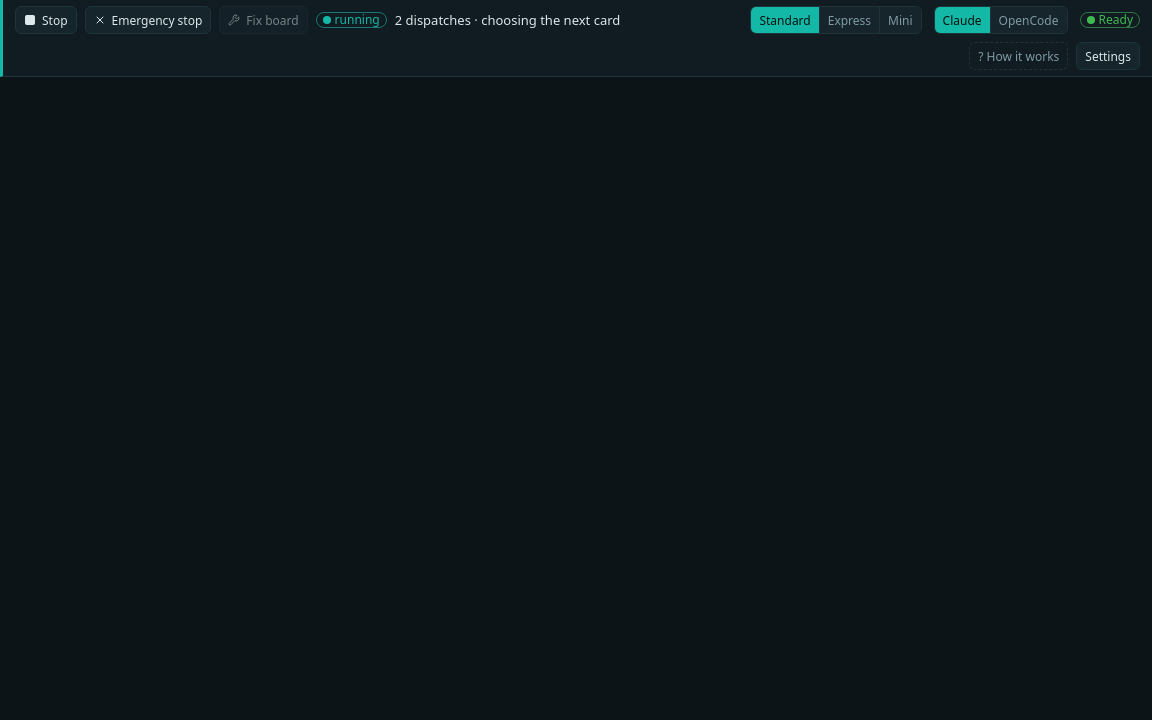
Test: the stops are on the bar, not behind Settings › asks before killing, and does nothing if you decline
What coordinates should you click on to do the following:
click the button with test id "ap-kill"
I would click on:
 (148, 20)
Its box is left=85, top=6, right=211, bottom=34.
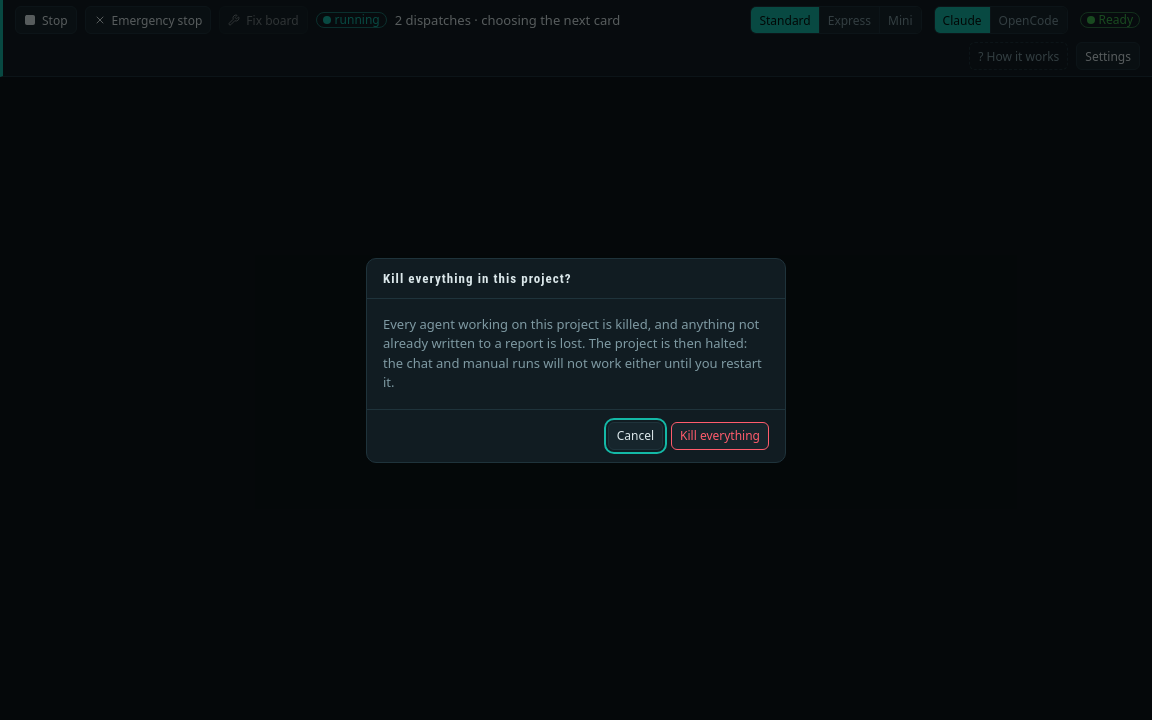
Expected: the text "Kill everything in this project?" is shown, left=383, top=270, right=572, bottom=286
What coordinates should you click on to do the following:
click the button "Cancel"
I would click on:
 (635, 436)
Its box is left=608, top=422, right=663, bottom=450.
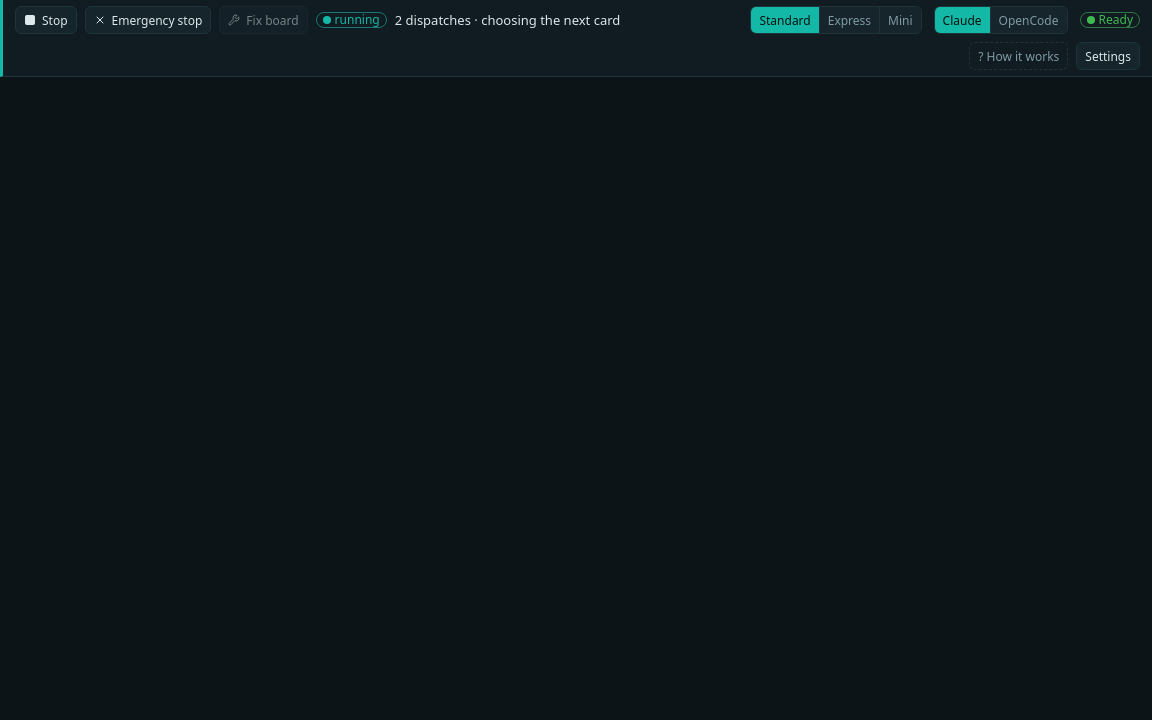
Expected: the text "Kill everything in this project?" is gone
